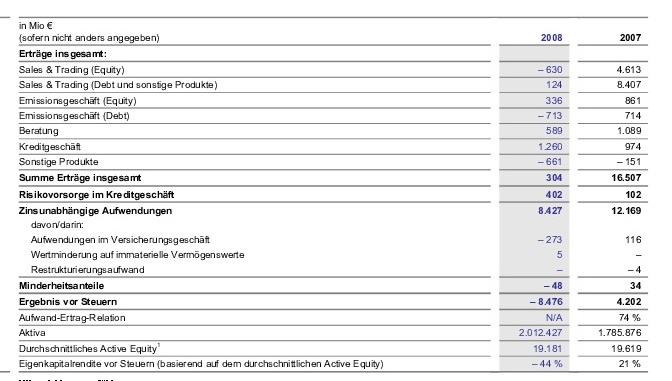table: (0, 0, 672, 381)
